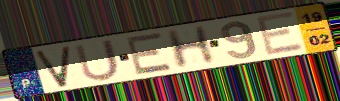9: (219, 20, 260, 60)
E: (253, 10, 306, 58), (125, 31, 175, 77)
H: (163, 23, 219, 71)
U: (72, 37, 122, 83)
V: (33, 44, 72, 89)
